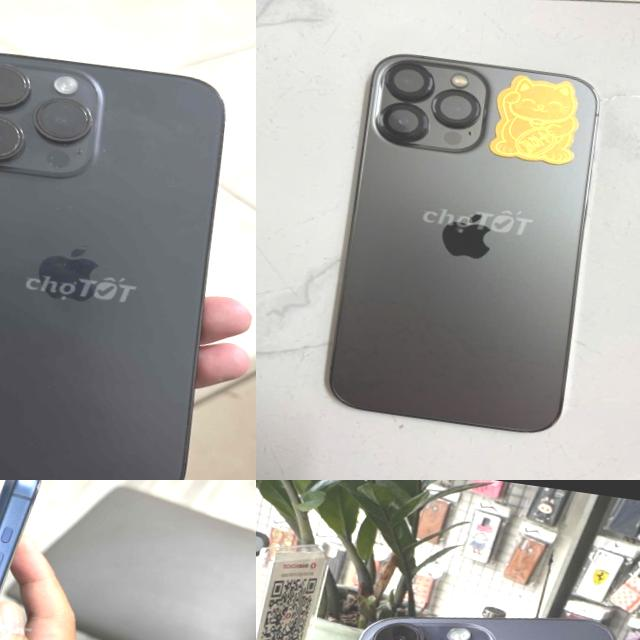gen_12_13: (322, 48, 614, 449)
gen_14: (0, 28, 256, 480), (256, 577, 640, 640)
